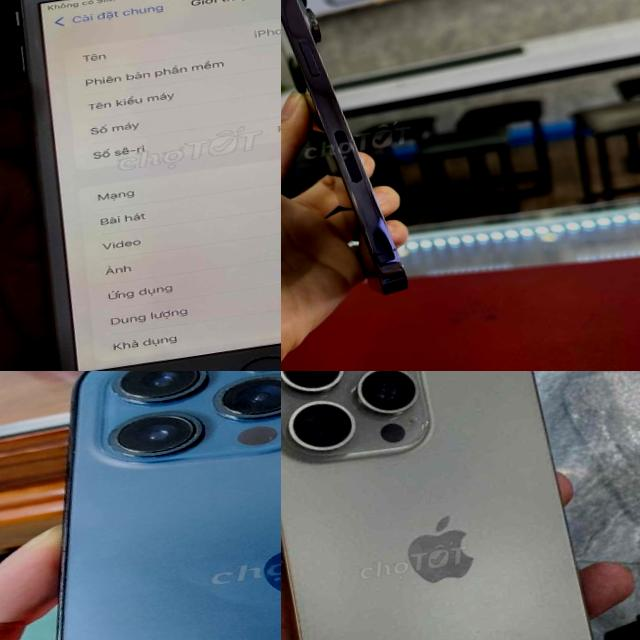gen_12_13: (0, 371, 281, 640)
gen_14: (281, 0, 422, 317)
gen_15: (281, 371, 640, 640)
gen_7_8: (0, 0, 281, 371)
